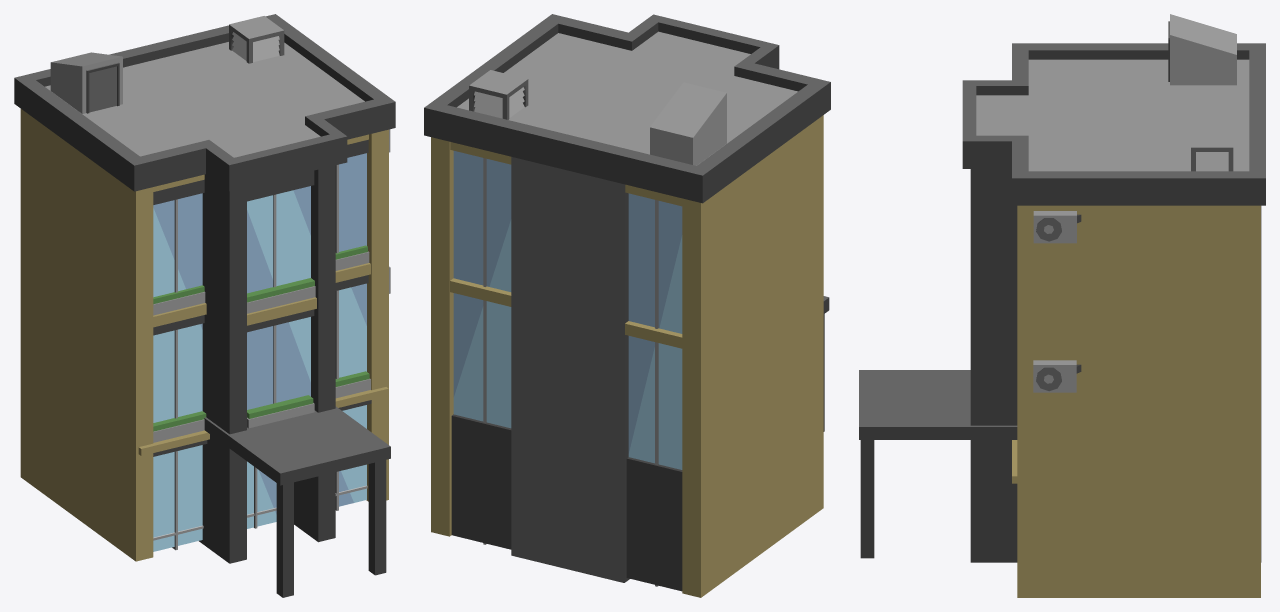
File: hotel_003.fbx
The picture shows the model from 3 angles, left to right: view 1: azimuth 30°, elevation 25°; view 2: azimuth 150°, elevation 25°; view 3: azimuth 270°, elevation 25°; orthographic projection. The views are drawn at different scales.
Visible parts, largest first — view 1: hotel_003; view 2: hotel_003; view 3: hotel_003.
Boxes of the visible parts, bbox=[...] form: hotel_003: bbox=[14, 14, 395, 597]; hotel_003: bbox=[424, 14, 830, 597]; hotel_003: bbox=[859, 14, 1265, 597].
Bounding box in the file's own units: 610 × 963 × 761.
